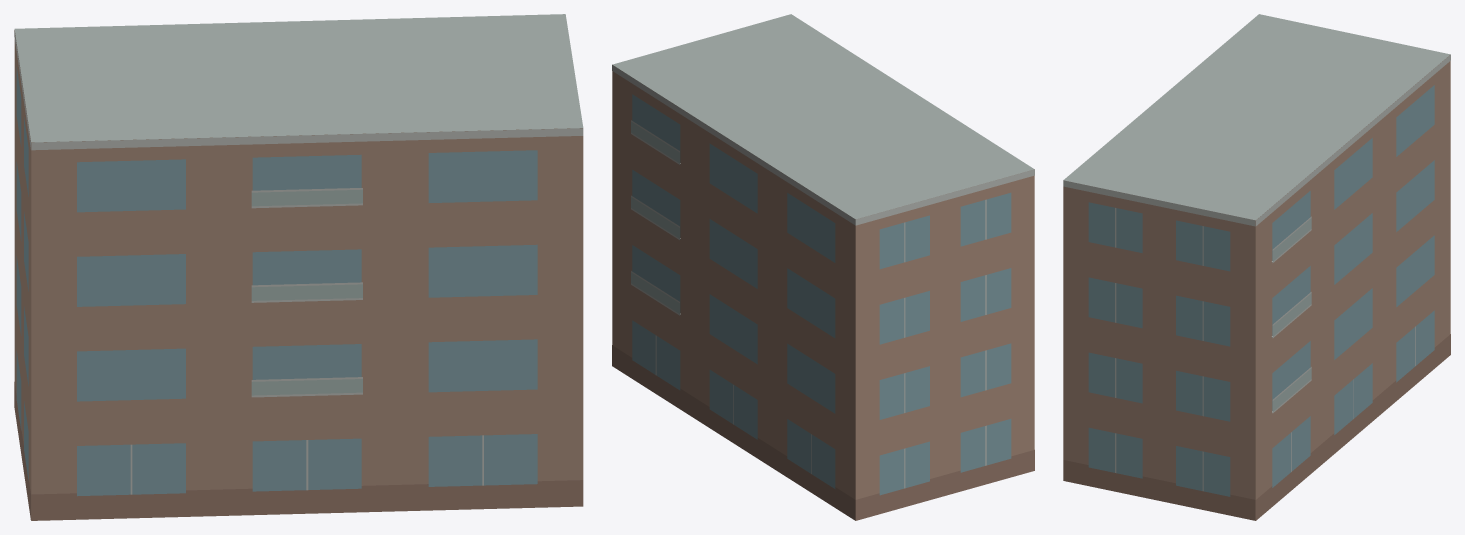
File: survey-upis-32945486.glb
3 views of the same model, side by side, from view 1: azimuth 30°, elevation 25°; view 2: azimuth 150°, elevation 25°; view 3: azimuth 270°, elevation 25° (orthographic). The views are drawn at different scales.
Visible parts, largest first — view 1: survey-upis-32945486.tmp; view 2: survey-upis-32945486.tmp; view 3: survey-upis-32945486.tmp.
Boxes of the visible parts, x1,y1,x2,y2 form: survey-upis-32945486.tmp: [14, 14, 583, 520]; survey-upis-32945486.tmp: [612, 14, 1034, 520]; survey-upis-32945486.tmp: [1063, 14, 1450, 520].
Size of the model in its own units: 17.39 by 11.8 by 13.8.
